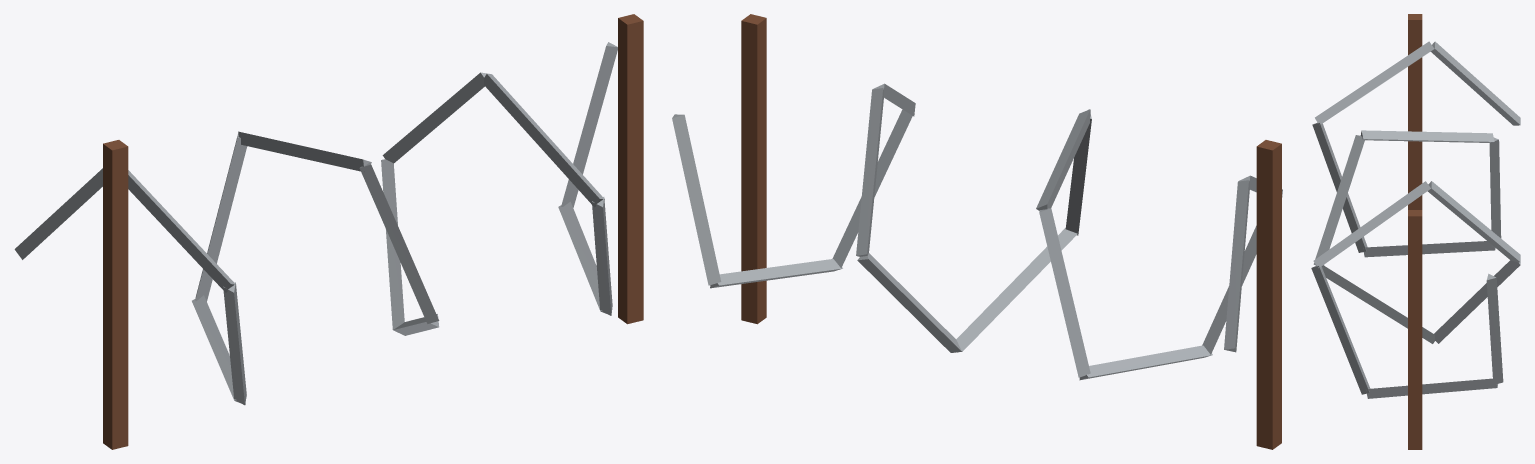
File: razor_wire.obj
3 views of the same model, side by side, from view 1: azimuth 30°, elevation 25°; view 2: azimuth 150°, elevation 25°; view 3: azimuth 270°, elevation 25° (orthographic). The views are drawn at different scales.
Visible parts, largest first — view 1: razor_wire; view 2: razor_wire; view 3: razor_wire.
Part boxes in pixels (left/top/right/bottom): razor_wire: left=14, top=14, right=643, bottom=449; razor_wire: left=672, top=14, right=1282, bottom=449; razor_wire: left=1311, top=14, right=1520, bottom=449.
Size of the model in its own units: 1.02 by 0.5 by 0.4064.
